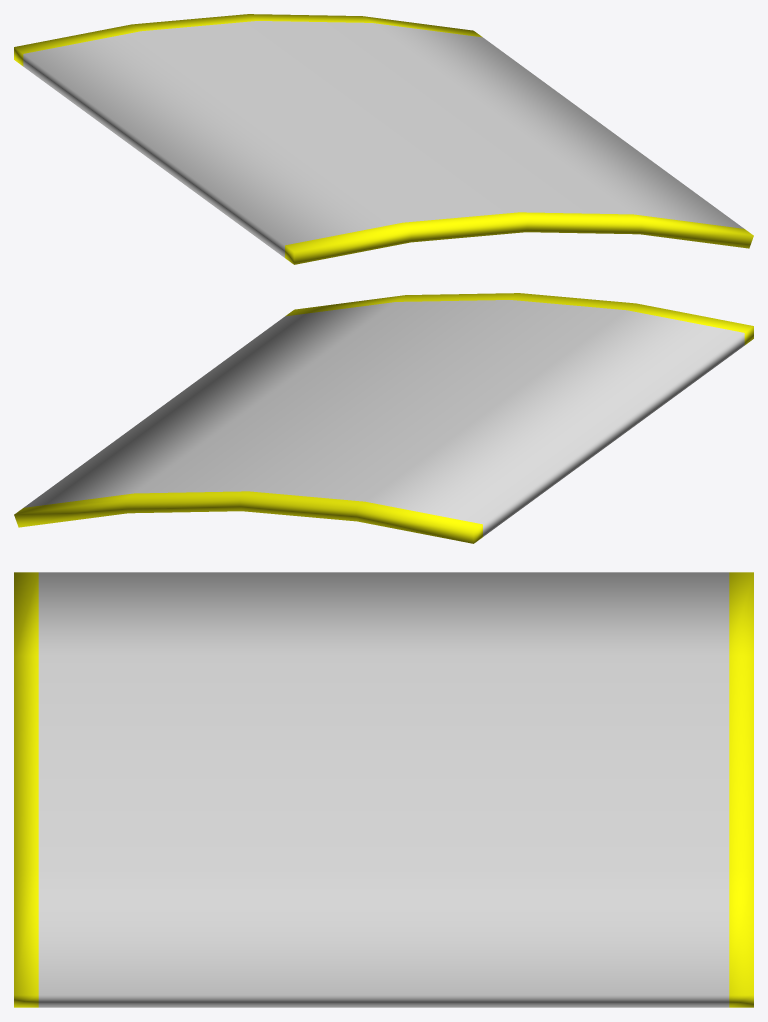
Rendered from NormalNote00.fbx.
3 renders of one model, top to bottom at view 1: azimuth 30°, elevation 25°; view 2: azimuth 150°, elevation 25°; view 3: azimuth 270°, elevation 25°, orthographic. The views are drawn at different scales.
Visible parts, largest first — view 1: NormalNote00; view 2: NormalNote00; view 3: NormalNote00.
Boxes of the visible parts, <box> form: NormalNote00: <box>14,14,753,264</box>; NormalNote00: <box>14,293,753,543</box>; NormalNote00: <box>14,572,753,1007</box>.
Bounding box in the file's own units: 37.89 × 40 × 8.46.
